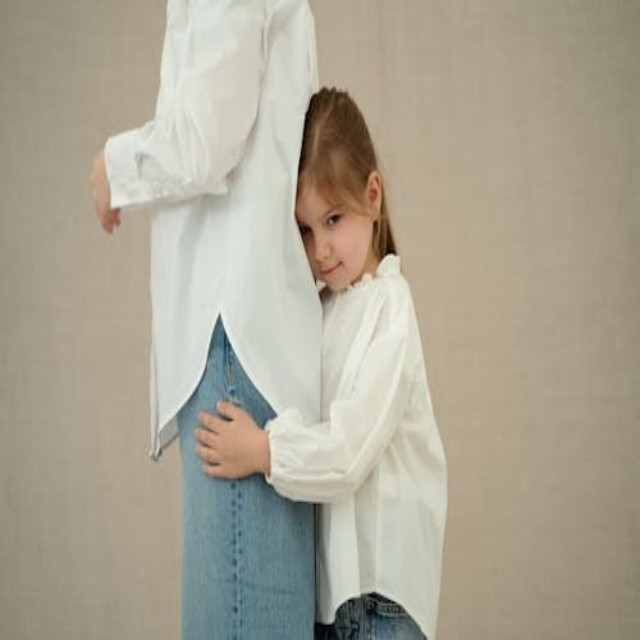Sin_gafas: (297, 190, 348, 238)
Sin_guantes: (193, 392, 268, 486)
Sin_mascara: (312, 256, 351, 294)
